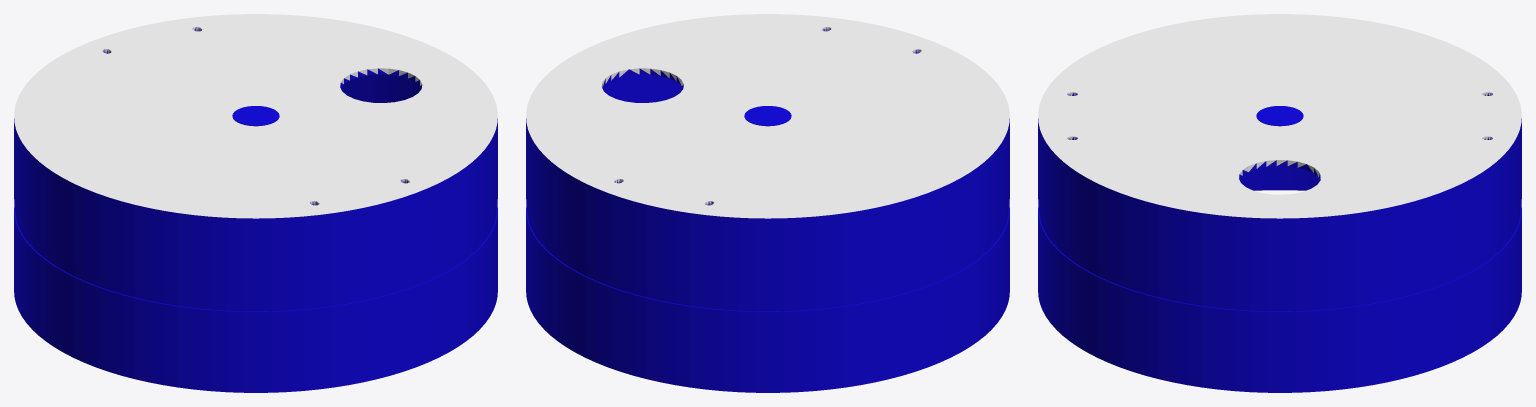
Rendered from BOTTOM_colour_2.dae.
3 views of the same model, side by side, from view 1: azimuth 30°, elevation 25°; view 2: azimuth 150°, elevation 25°; view 3: azimuth 270°, elevation 25° (orthographic).
Visible parts, largest first — view 1: BOTTOM; view 2: BOTTOM; view 3: BOTTOM.
Boxes of the visible parts, x1,y1,x2,y2 form: BOTTOM: (14,14,497,392); BOTTOM: (526,14,1009,392); BOTTOM: (1038,14,1521,392).
Size of the model in its own units: 0.352 by 0.352 by 0.1404.
